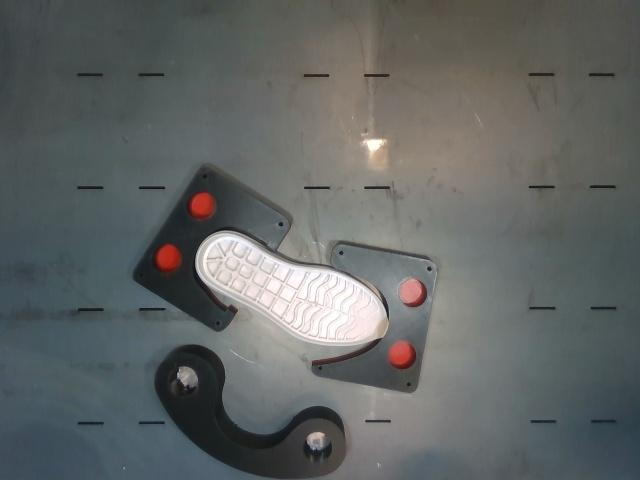shoes: (198, 234, 388, 345)
